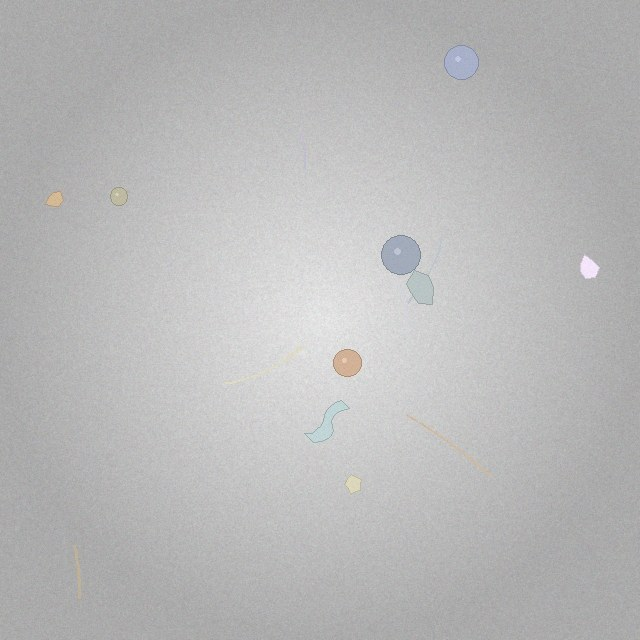fiber: (404, 412, 494, 479), (222, 343, 306, 387), (405, 232, 444, 305), (379, 254, 412, 333), (71, 541, 83, 602), (298, 129, 307, 171)
film: (305, 401, 349, 442)
fragment: (407, 270, 433, 304), (580, 254, 600, 279), (345, 475, 362, 494), (46, 191, 63, 207)
pellet: (382, 236, 421, 275), (444, 46, 478, 80), (334, 350, 361, 377), (110, 188, 128, 205)
